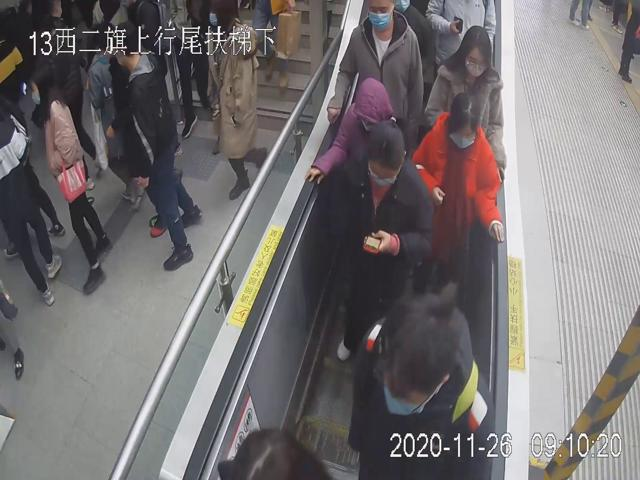person: (346, 279, 493, 480), (329, 115, 432, 362), (24, 60, 112, 296), (411, 93, 505, 300), (324, 0, 424, 155), (425, 21, 507, 184), (304, 76, 398, 183)
